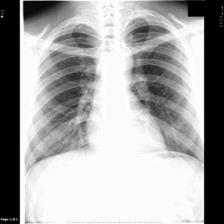tuberculosis: (21, 10, 206, 210)
